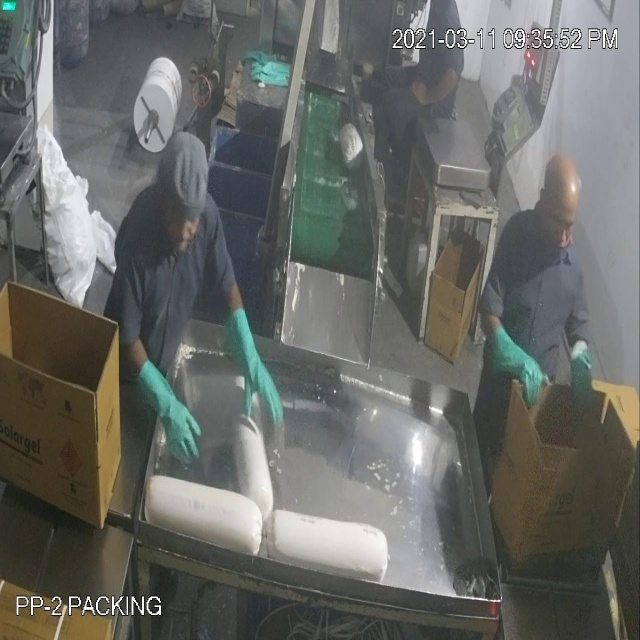Guantes: (217, 300, 289, 446), (133, 344, 205, 476), (488, 321, 558, 427), (567, 337, 602, 424)
Sin_guantes: (402, 60, 468, 128)
